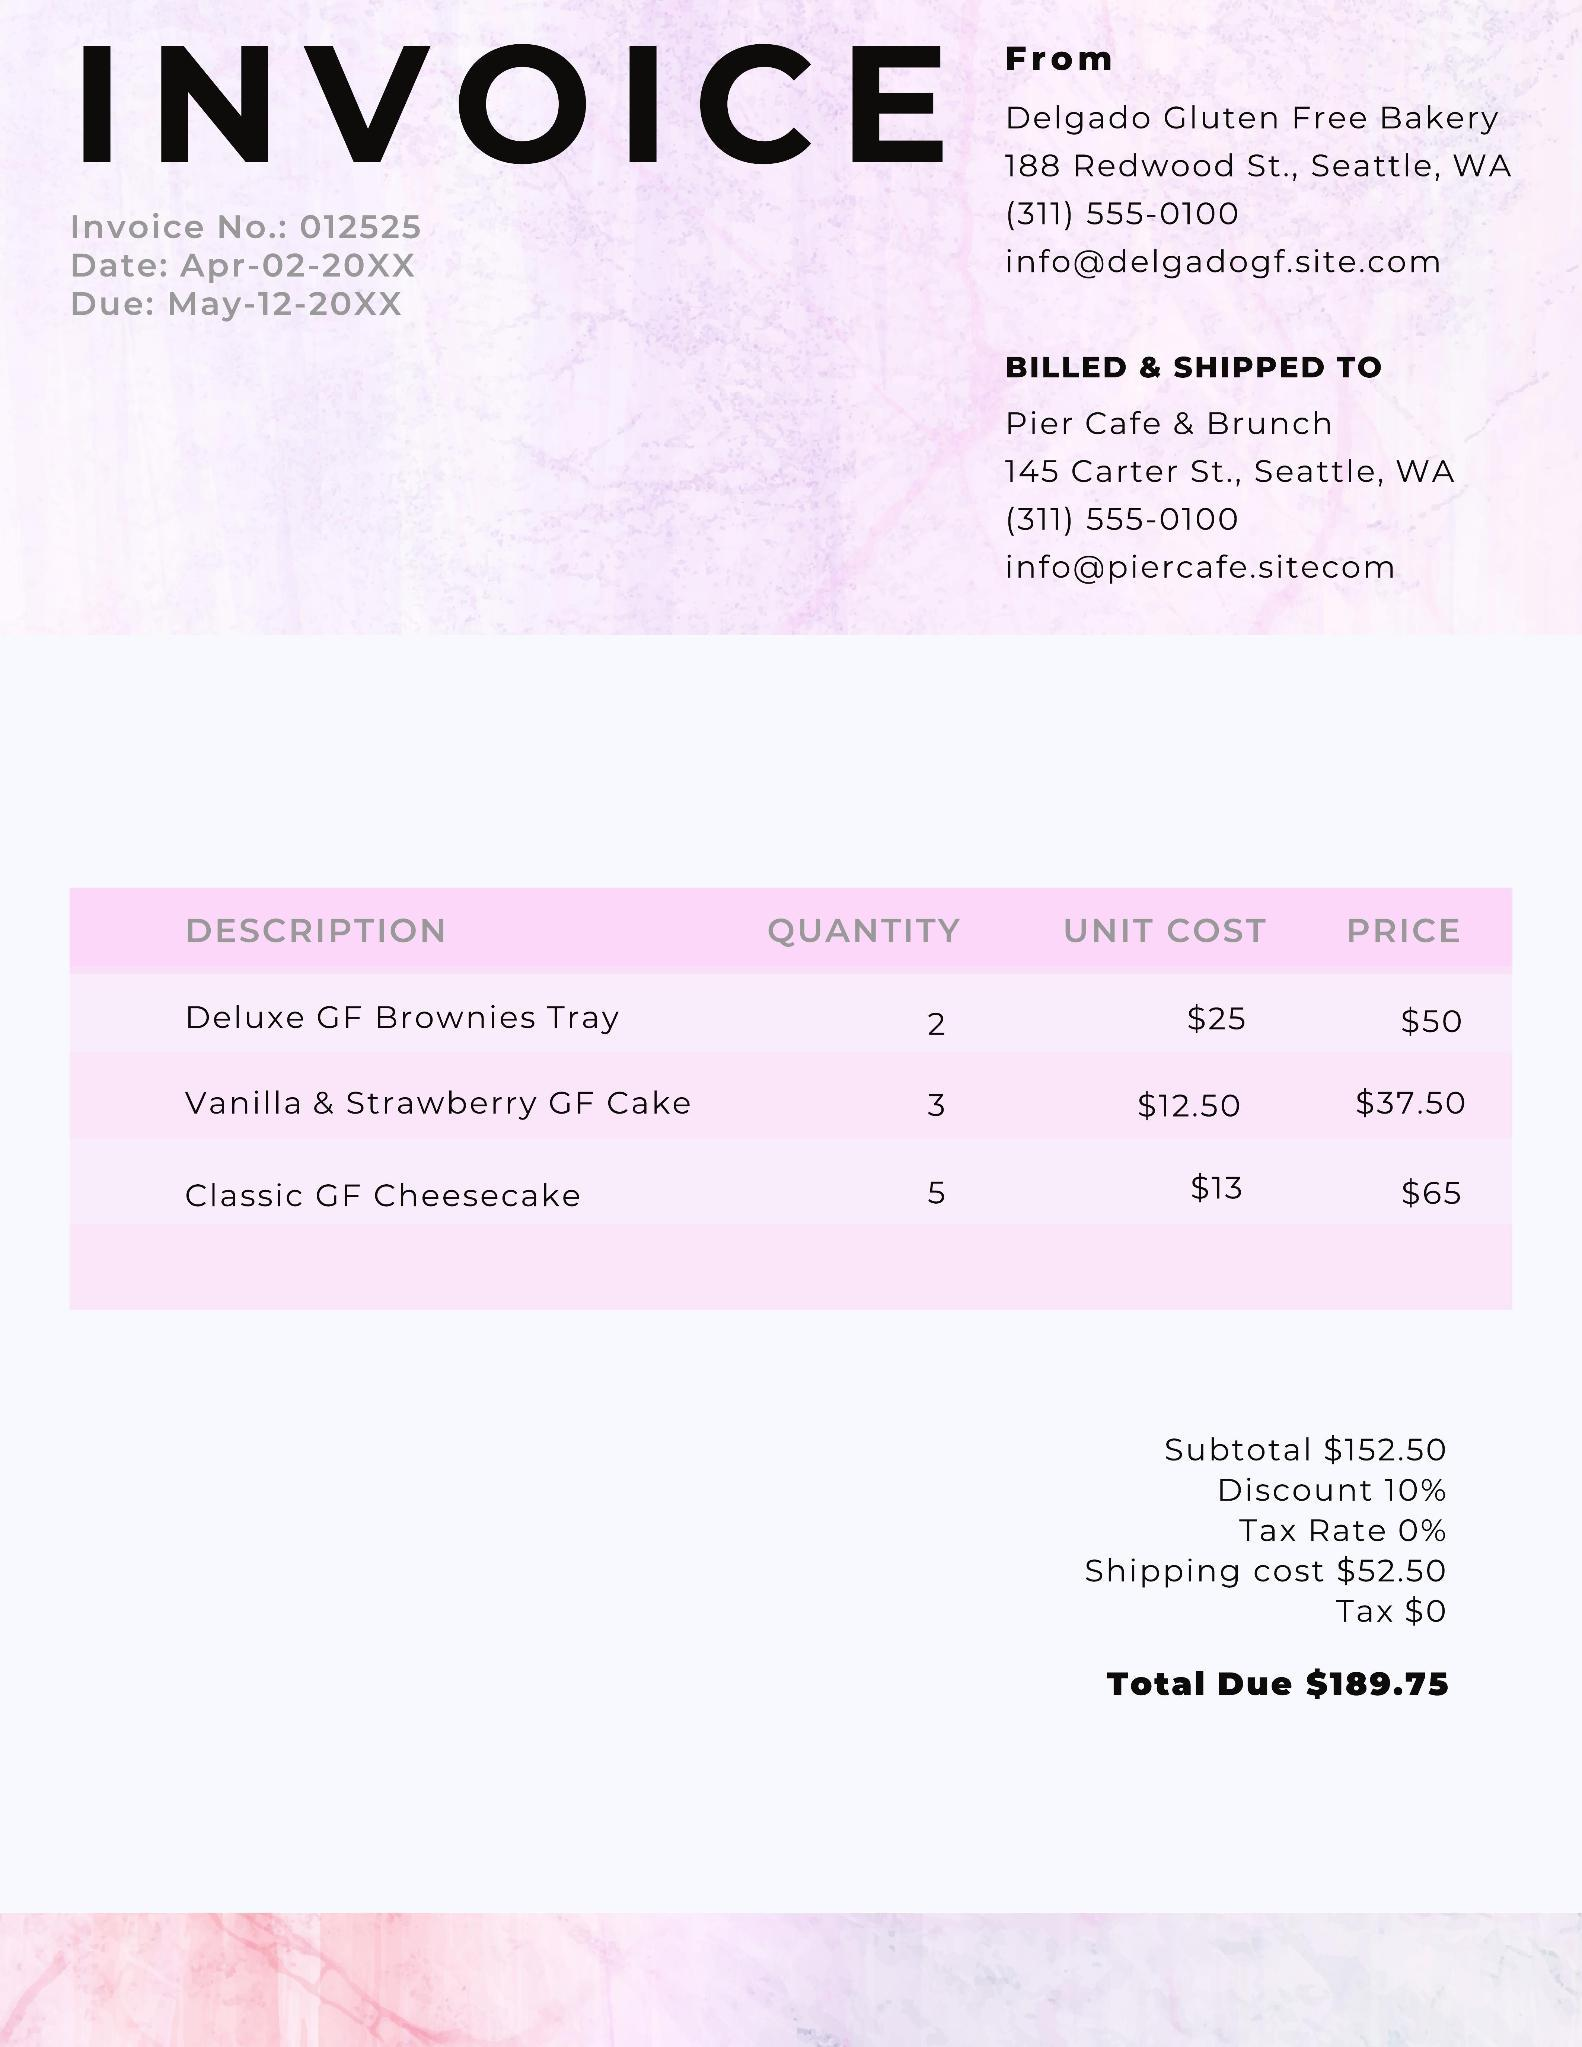ROI: (65, 888, 1518, 1322), (65, 32, 965, 189), (996, 36, 1536, 292), (992, 333, 1476, 610), (1018, 1405, 1528, 1639), (58, 206, 459, 352), (1033, 1655, 1523, 1732)
